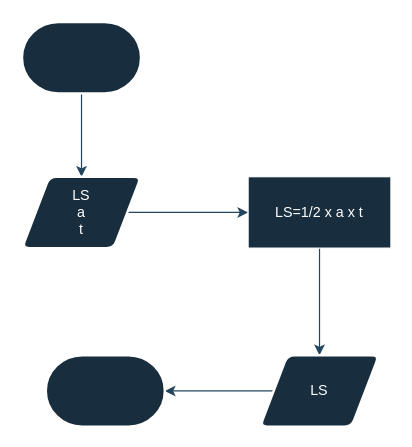
Image size: 412x447. Some labels were removed from this diagram. Here are the shapes that lost their labels. From the top down, the centre of each, then its label:
At (x=81, y=57): "Mulai".
At (x=104, y=390): "Selesai".
